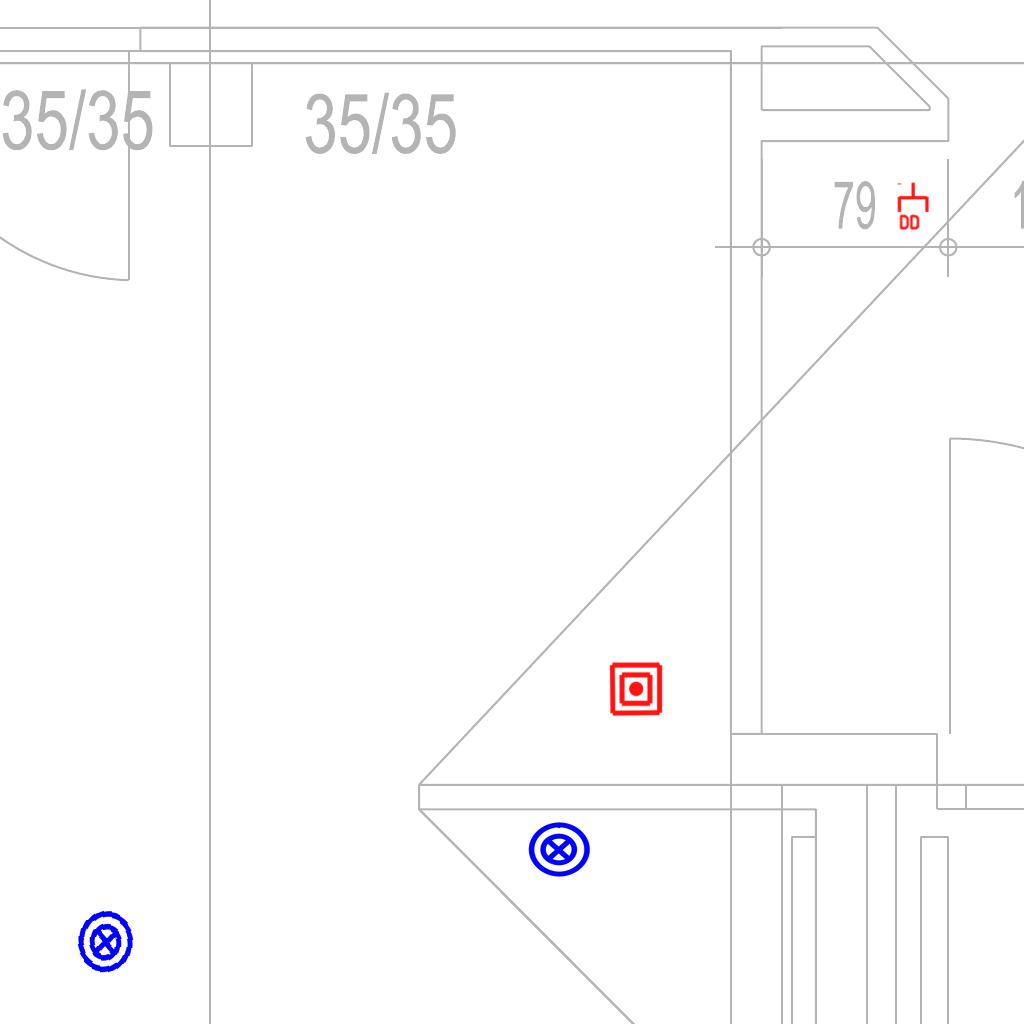Datenanschluss_zweifach: (897, 181, 931, 232)
NAM-Nichtautomatischer_Melder: (608, 661, 664, 717)
Taster_beleuchtet: (69, 905, 143, 979), (526, 817, 592, 883)
